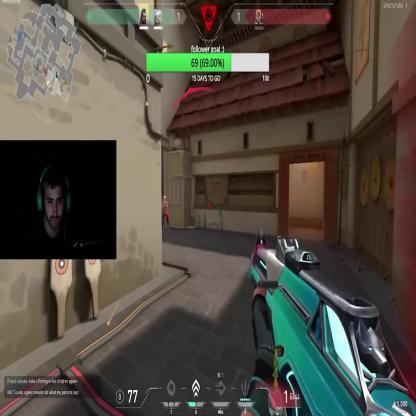enemy: (161, 194, 170, 232)
enemy_head: (162, 196, 166, 204)
